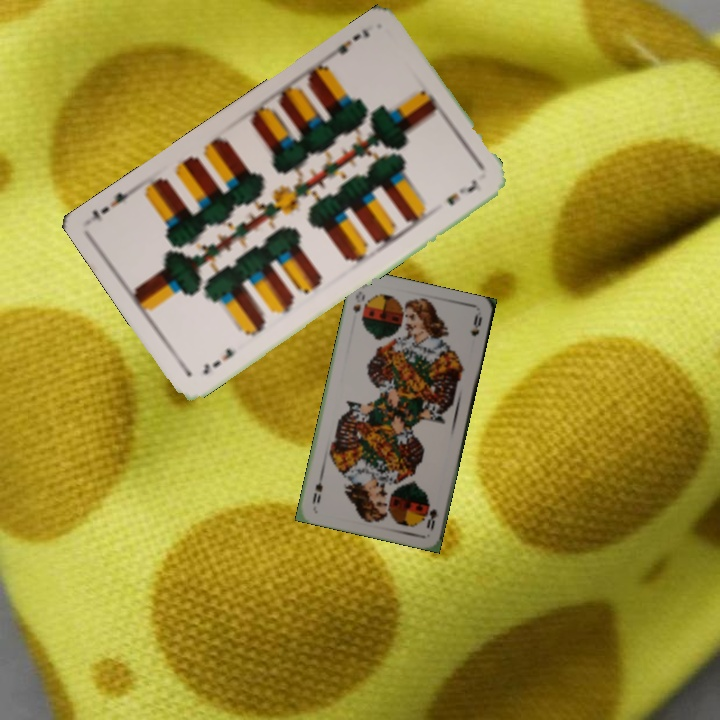E7: (325, 24, 373, 60), (198, 344, 237, 378)
SO: (422, 497, 441, 534), (349, 287, 368, 315)
